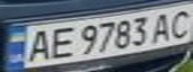3: (130, 15, 154, 47)
7: (93, 19, 118, 53)
8: (115, 16, 136, 50)
9: (75, 21, 100, 56)
A: (21, 27, 54, 63), (148, 10, 178, 43)
C: (163, 7, 193, 39)
E: (45, 24, 78, 61)
